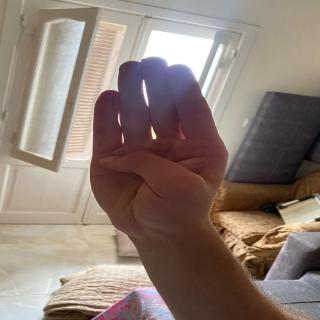KAAF: (71, 51, 254, 230)
